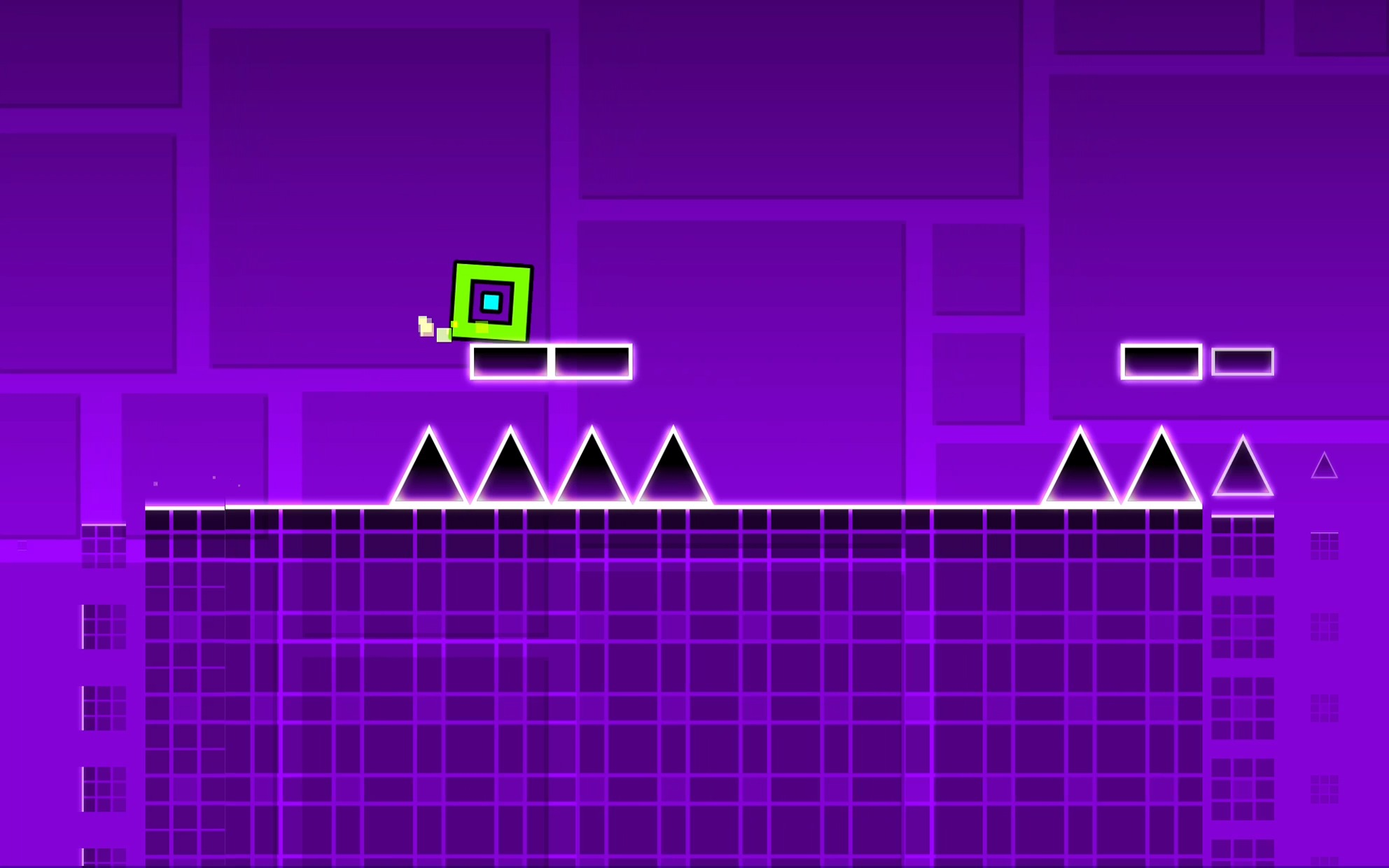Block2: (138, 506, 1278, 868)
Block3: (460, 343, 554, 380), (1119, 343, 1201, 379), (551, 347, 633, 382), (1208, 346, 1274, 376)
Player: (450, 262, 532, 340)
Spike: (391, 426, 466, 503), (637, 426, 710, 503), (1126, 426, 1197, 503), (1043, 427, 1116, 501), (475, 426, 545, 502), (557, 427, 627, 501), (1213, 435, 1272, 495)
